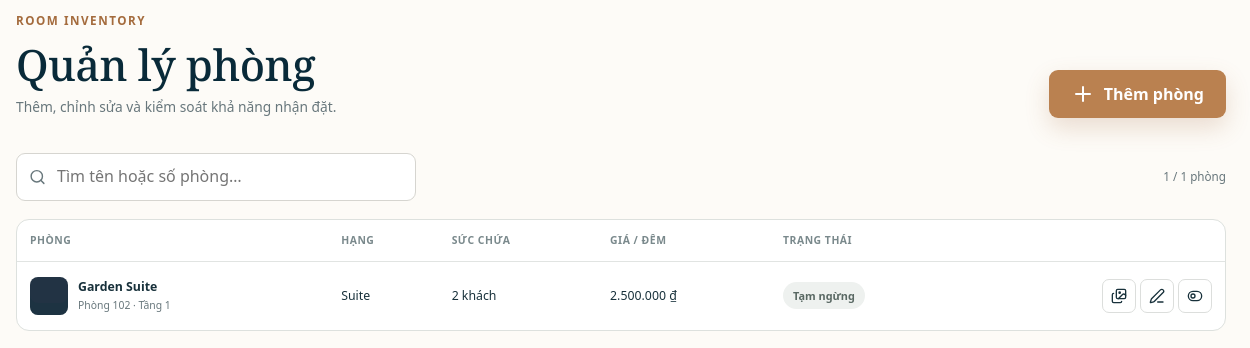
it: AdminRoomsPage inventory › renders an inactive room and keeps it visible after reactivation
Check: the text "Garden Suite" is shown, box [78,277,171,297]
Check: the text "Tạm ngừng" is shown, box [783,282,865,309]
What coordinates should you click on to do the following:
click the button named "Nhận đặt lại Garden Suite"
I would click on:
 (1195, 296)
Its box is [1178,278,1212,312].
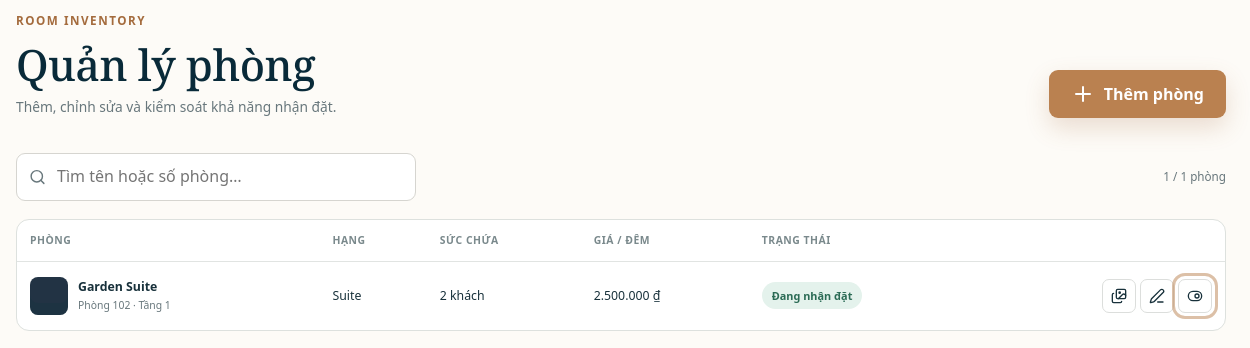
Check: the text "Garden Suite" is shown, box [78,277,171,297]
Check: the text "Đang nhận đặt" is shown, box [762,282,862,309]
Check: the button named "Ngừng nhận đặt Garden Suite" is shown, box [1178,278,1212,312]
